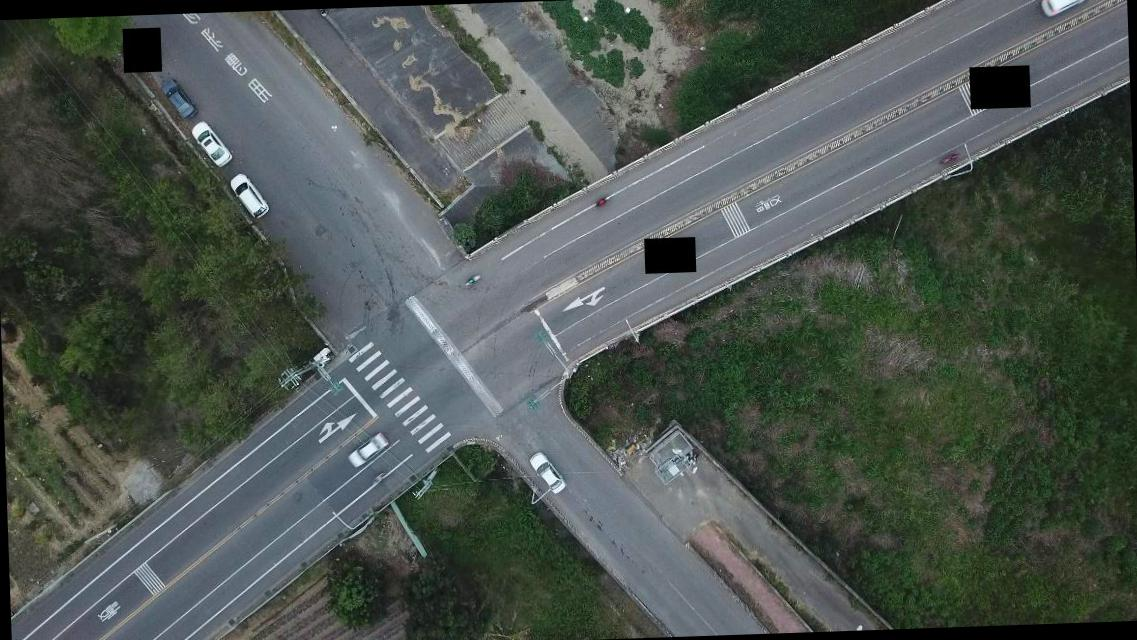vehicle: (186, 120, 232, 170), (526, 450, 568, 494), (228, 174, 268, 218), (346, 432, 389, 468), (161, 75, 194, 119), (1034, 0, 1095, 20)
